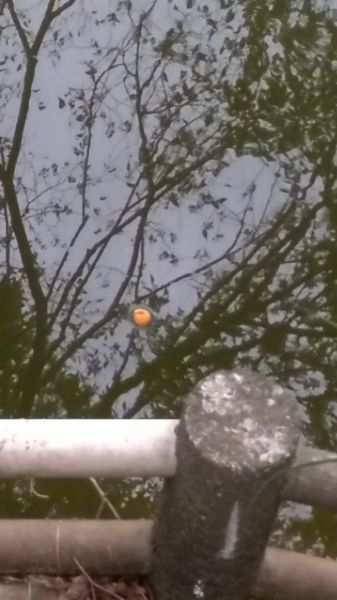eggs: (129, 305, 155, 328)
